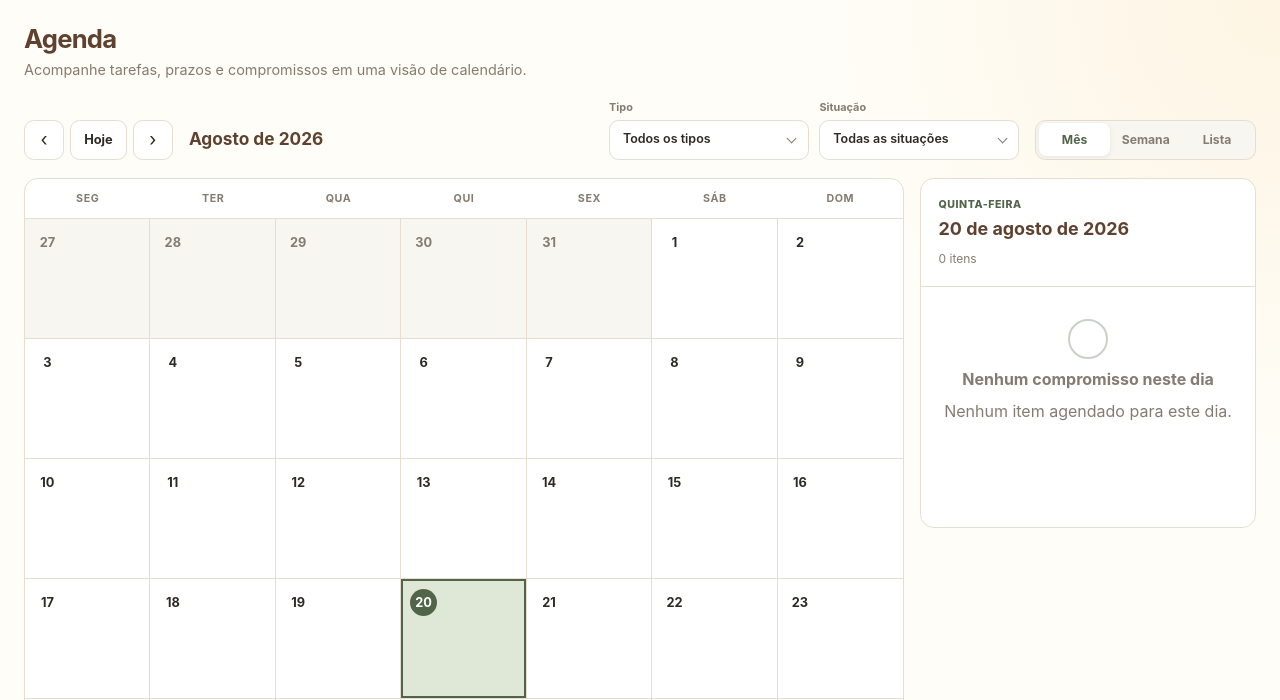
it: AgendaPage › botao hoje retorna para o mes atual
Click the button with test id "agenda-previous-month" at x=44, y=140, box [24,120,64,160]
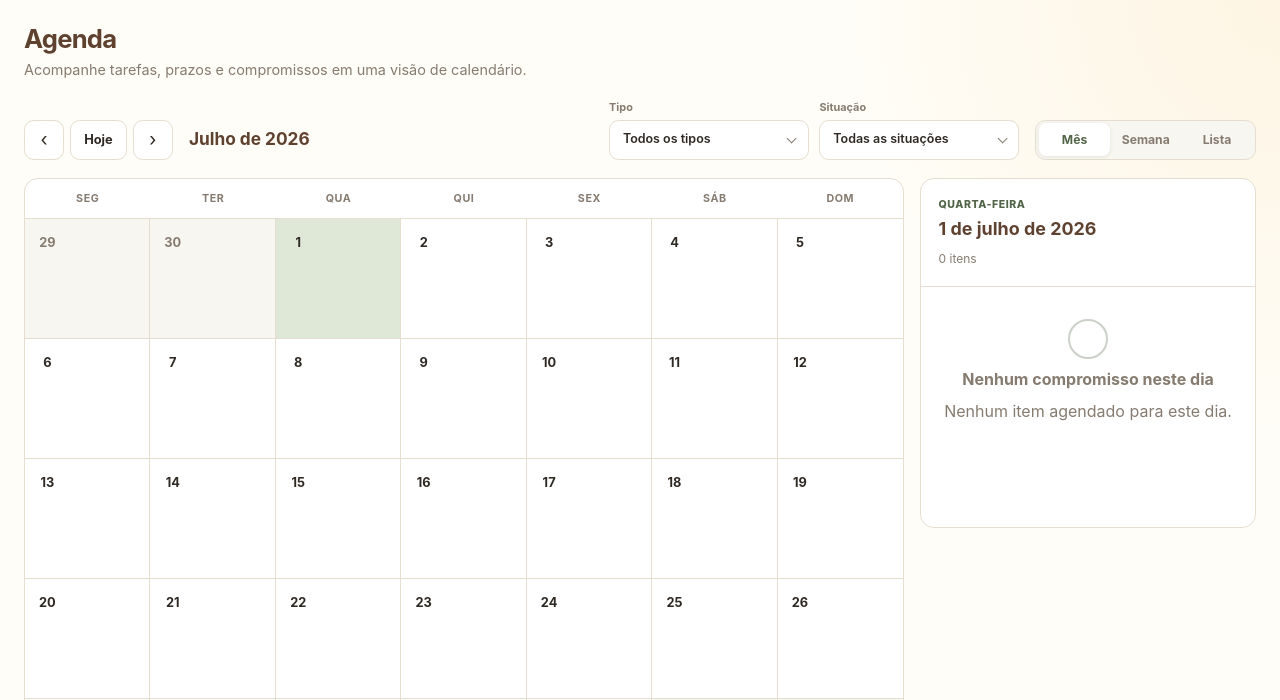
expect the text "Julho de 2026" is shown: met, box [189,129,310,150]
Click the button with test id "agenda-today" at x=98, y=140, box [70,120,127,160]
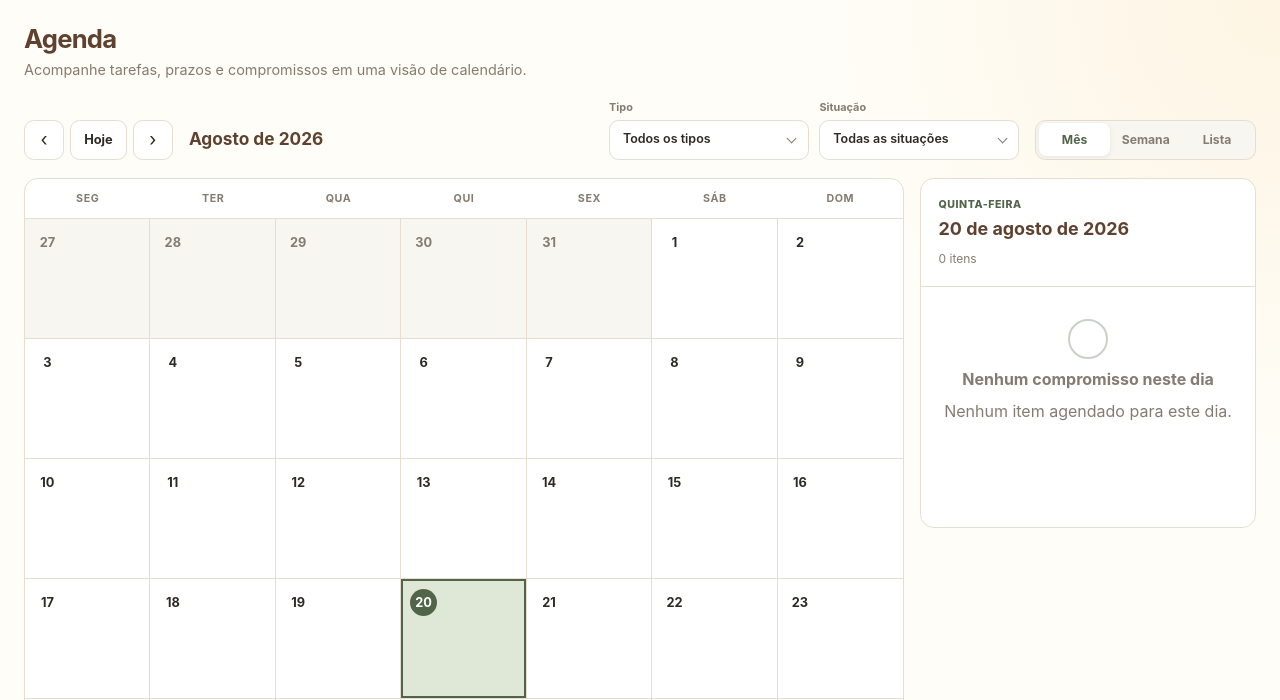
expect the text "Agosto de 2026" is shown: met, box [189,129,323,150]
